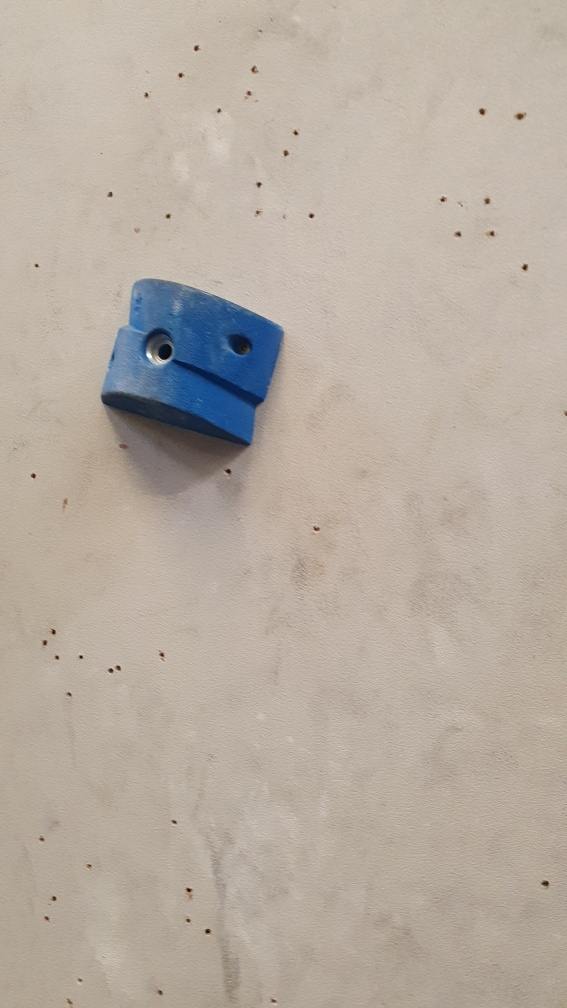Pinch: (98, 276, 286, 451)
